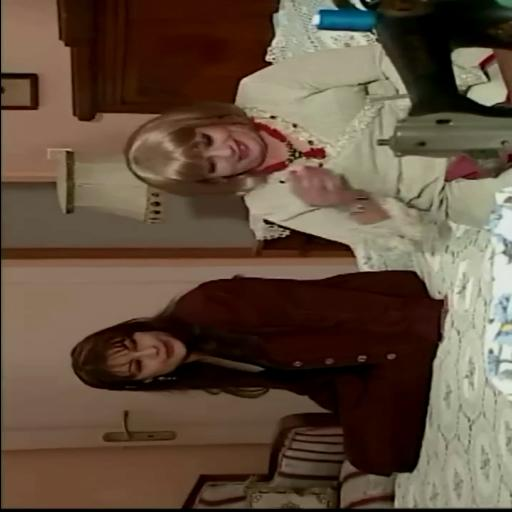zeineb: (71, 320, 186, 390)
